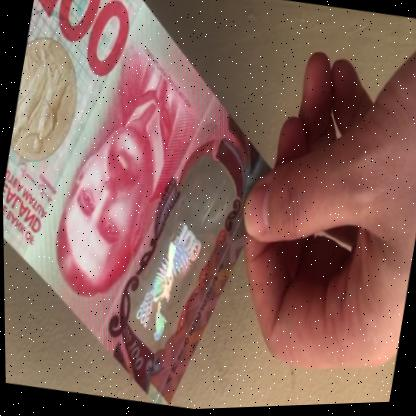100F: (128, 163, 233, 354)
